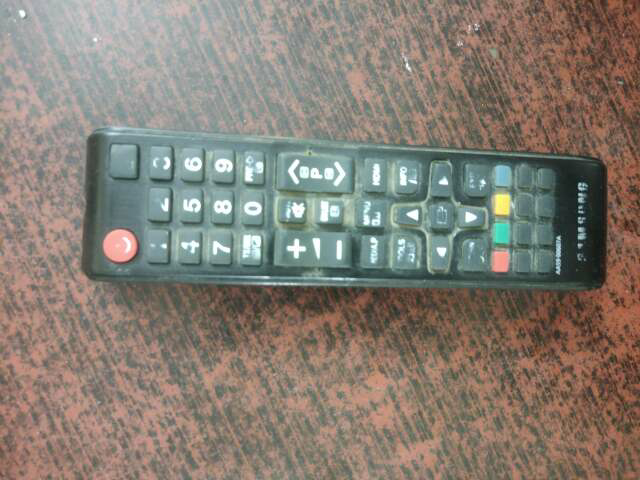remote: (71, 117, 615, 293)
